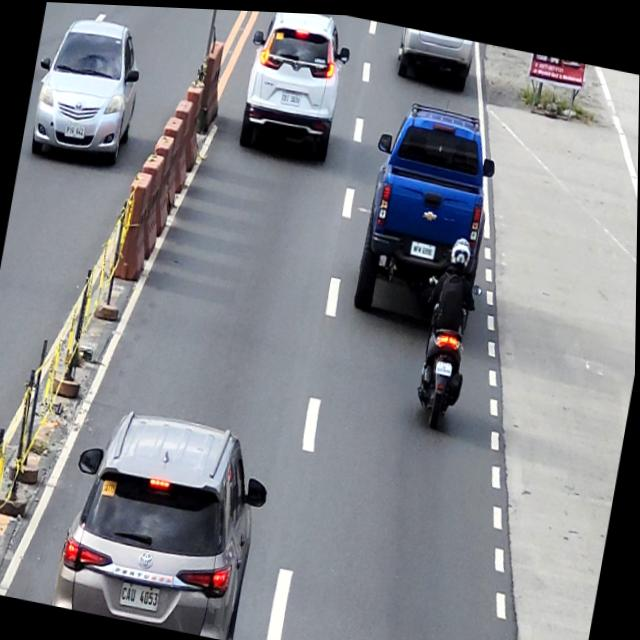Car: (53, 397, 278, 640), (350, 91, 505, 328), (26, 6, 149, 172), (234, 8, 355, 161), (393, 23, 476, 89)
License-Plate: (119, 577, 164, 611), (410, 236, 437, 256), (63, 121, 87, 139), (280, 87, 302, 104), (435, 355, 455, 373)
Motorcycle: (405, 269, 484, 431)
